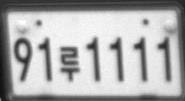1: (84, 36, 107, 82), (131, 36, 153, 82), (155, 35, 176, 82), (108, 36, 129, 82), (36, 36, 56, 81)
9: (12, 36, 33, 82)
루: (59, 45, 80, 82)
